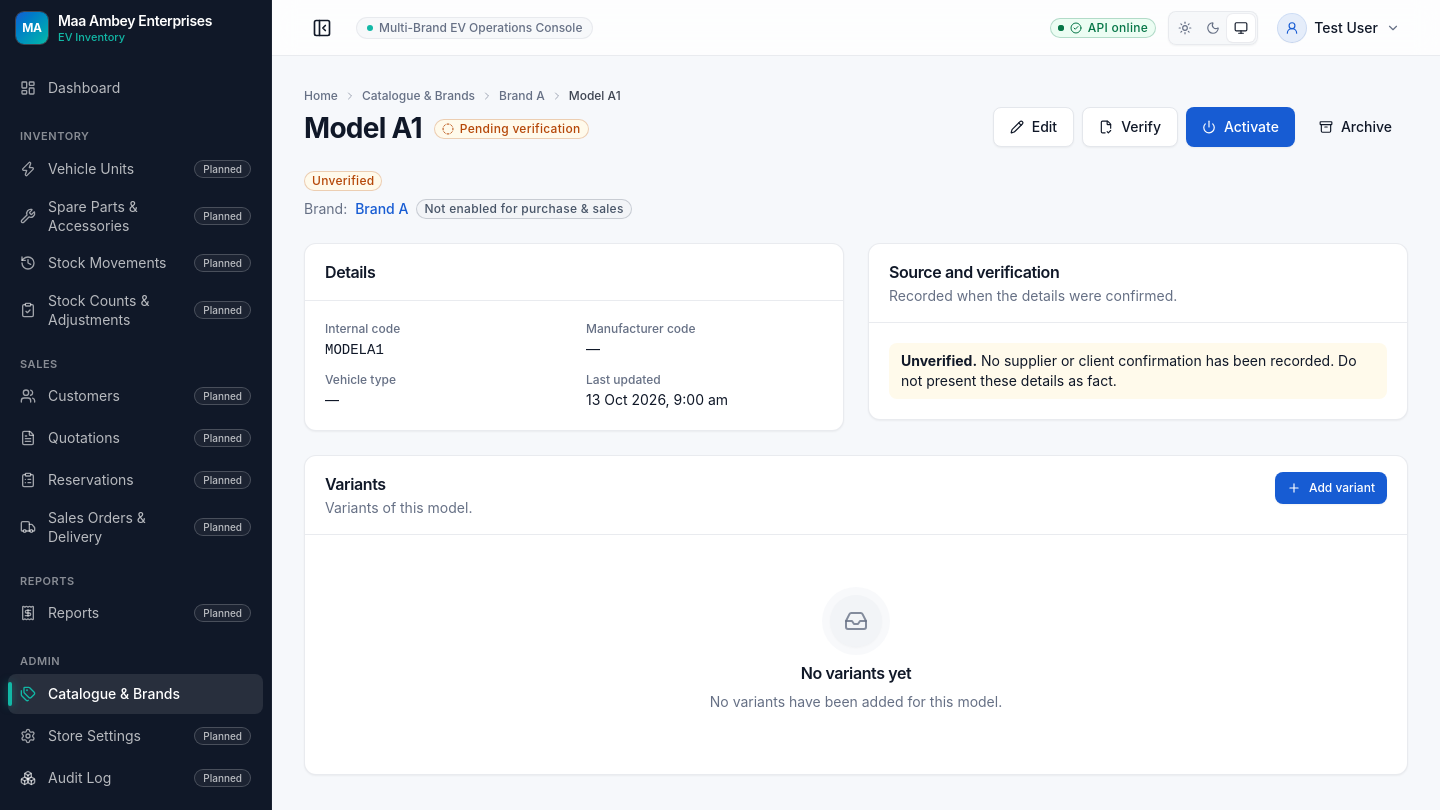
Scenario: model lifecycle actions › confirms activation and lists the server’s unmet requirements when refused
Expected: the text "No supplier or client confirmation has been recorded" is shown, top-left (901, 352), bottom-right (1357, 389)
Click the button "Activate": (1240, 127) top-left (1186, 107), bottom-right (1295, 147)
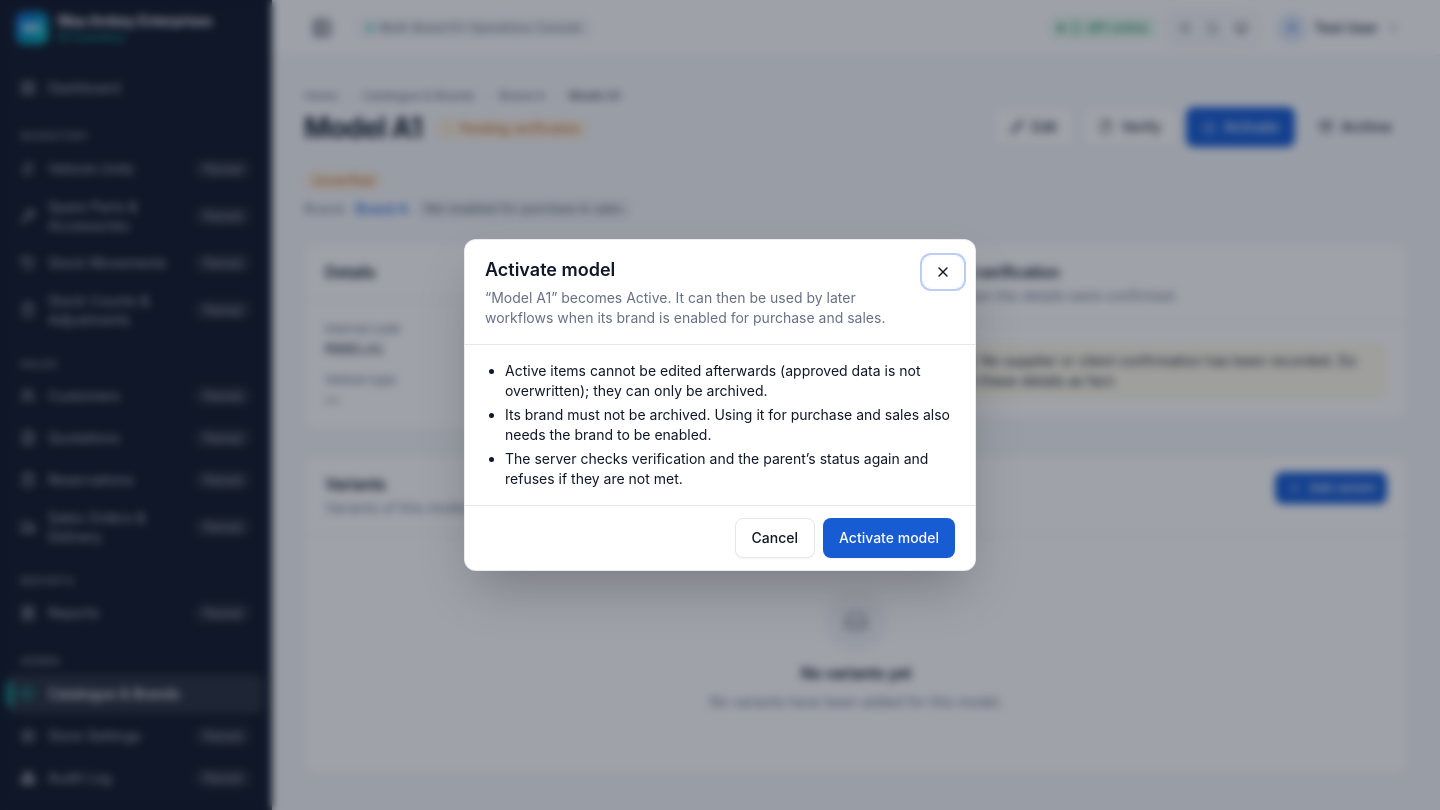
Click the button "Activate model": (889, 538) top-left (823, 518), bottom-right (955, 558)
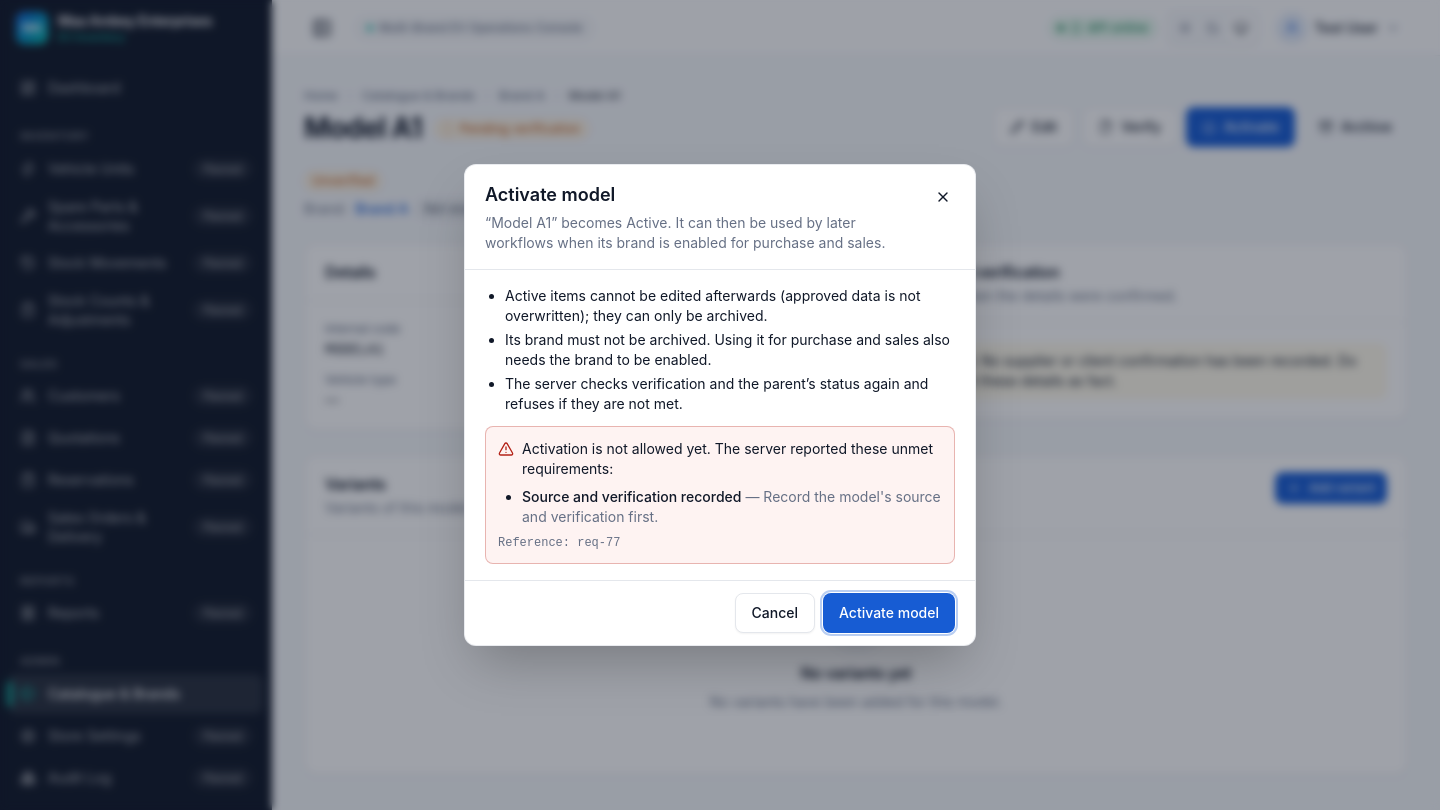
Expected: the text "Pending verification" is shown, top-left (460, 121), bottom-right (580, 137)
Now the text "Source and verification recorded" is shown, box top-left (522, 488), bottom-right (742, 505)
Now the text "Activation is not allowed yet" is shown, box top-left (522, 440), bottom-right (933, 477)
